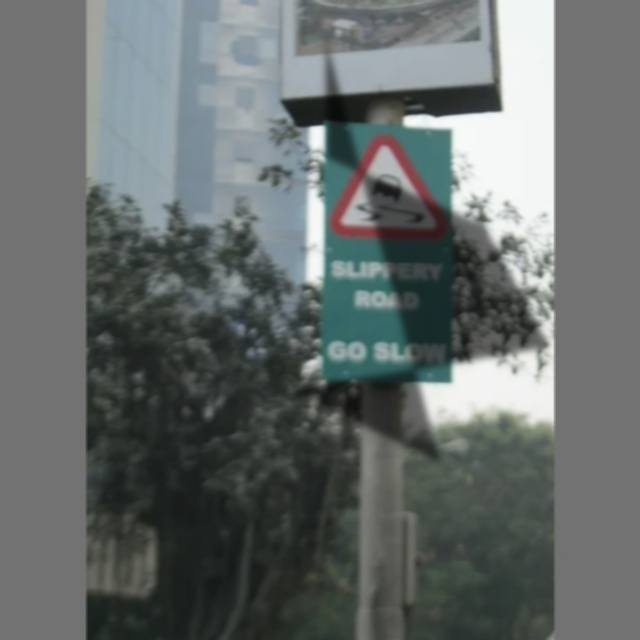Slippery_Road: (328, 136, 447, 240)
